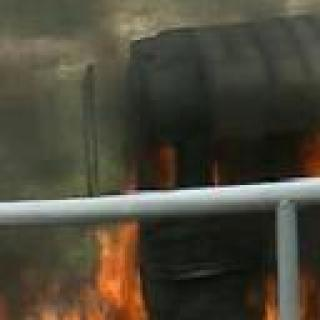fire: (2, 222, 143, 320), (119, 158, 206, 196), (260, 276, 320, 320), (301, 120, 320, 173)
